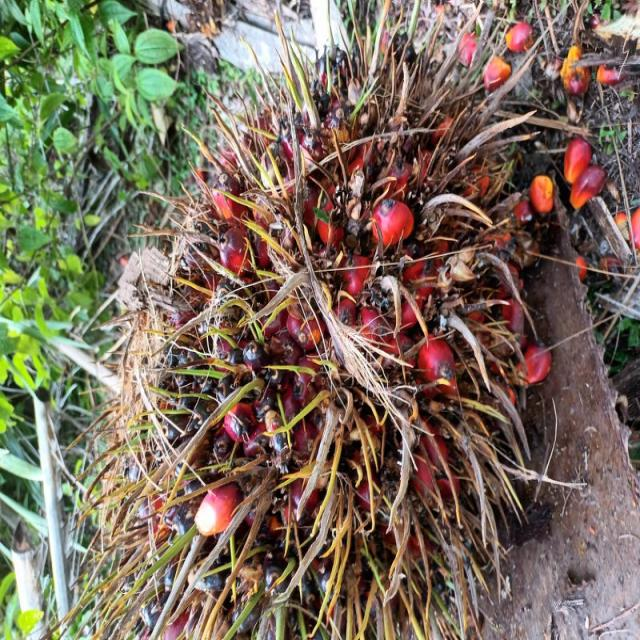fraksi 3: (0, 79, 474, 640)
